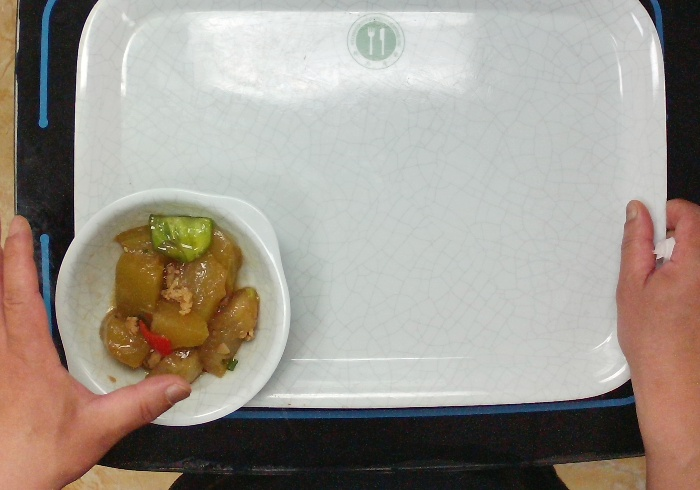JYsf-Shuang_Er_Wan: (51, 183, 297, 431)
